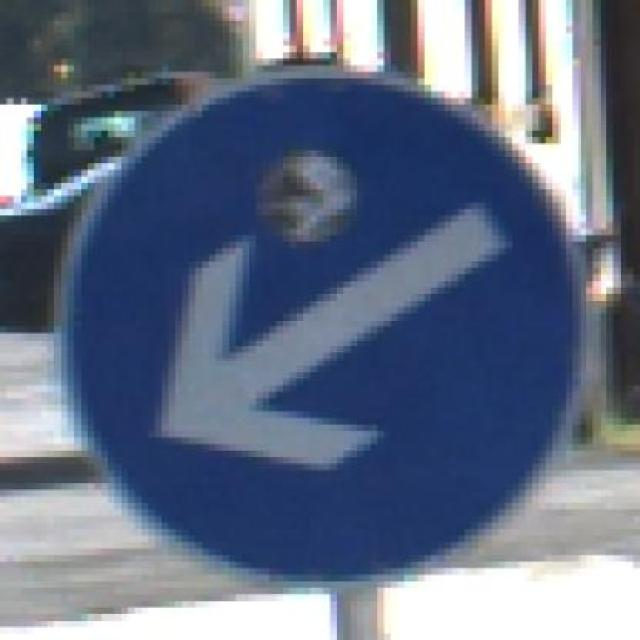Keep-Left: (67, 66, 593, 594)
